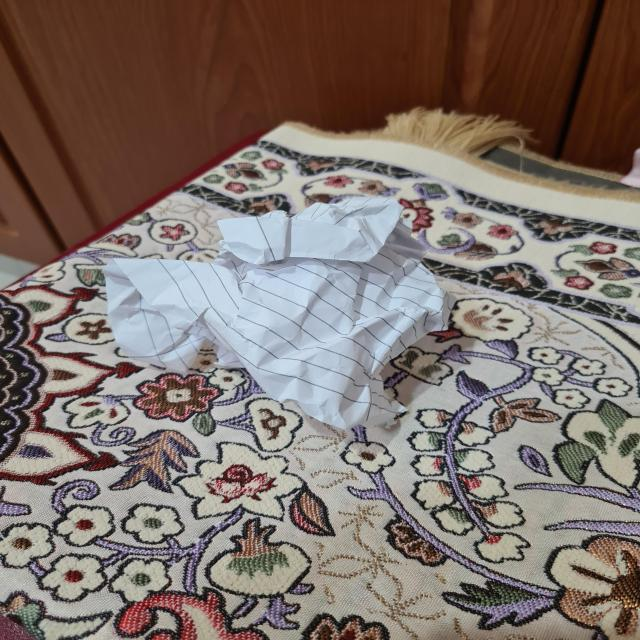trash: (101, 198, 442, 414)
